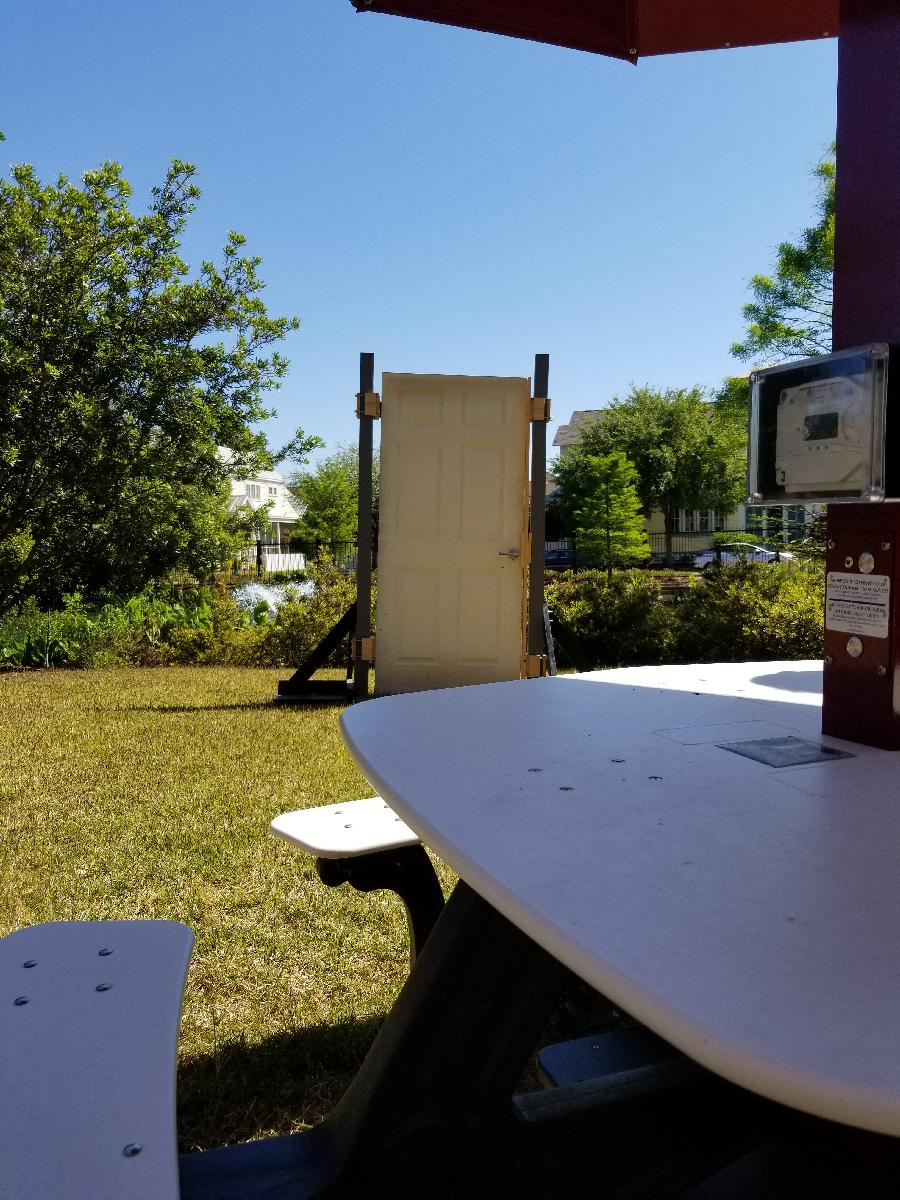door: (368, 368, 535, 709)
doorHandle: (497, 548, 521, 566)
